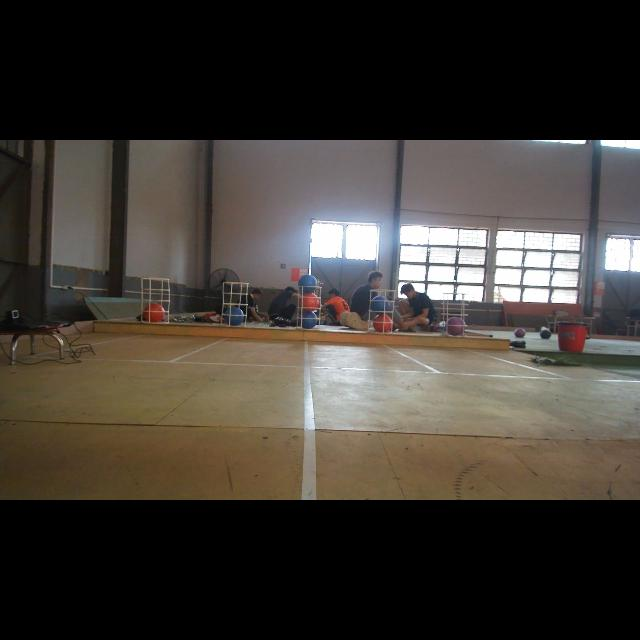B: (224, 307, 244, 325), (370, 296, 390, 314), (299, 275, 317, 293), (299, 312, 317, 328)
R: (300, 292, 320, 312), (143, 304, 165, 322), (373, 314, 393, 332)
